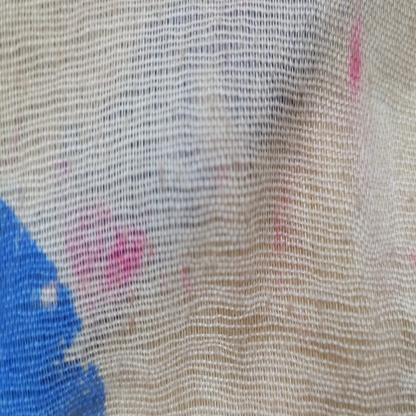spot: (60, 188, 159, 290), (264, 174, 303, 257), (347, 2, 365, 98), (178, 251, 195, 314)
